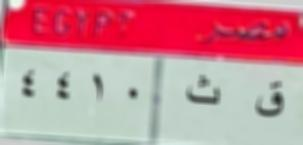0: (123, 80, 147, 110)
1: (85, 70, 112, 104)
4: (16, 64, 43, 103), (51, 68, 77, 107)
qaaf: (252, 76, 289, 126)
thaa: (180, 74, 228, 114)
